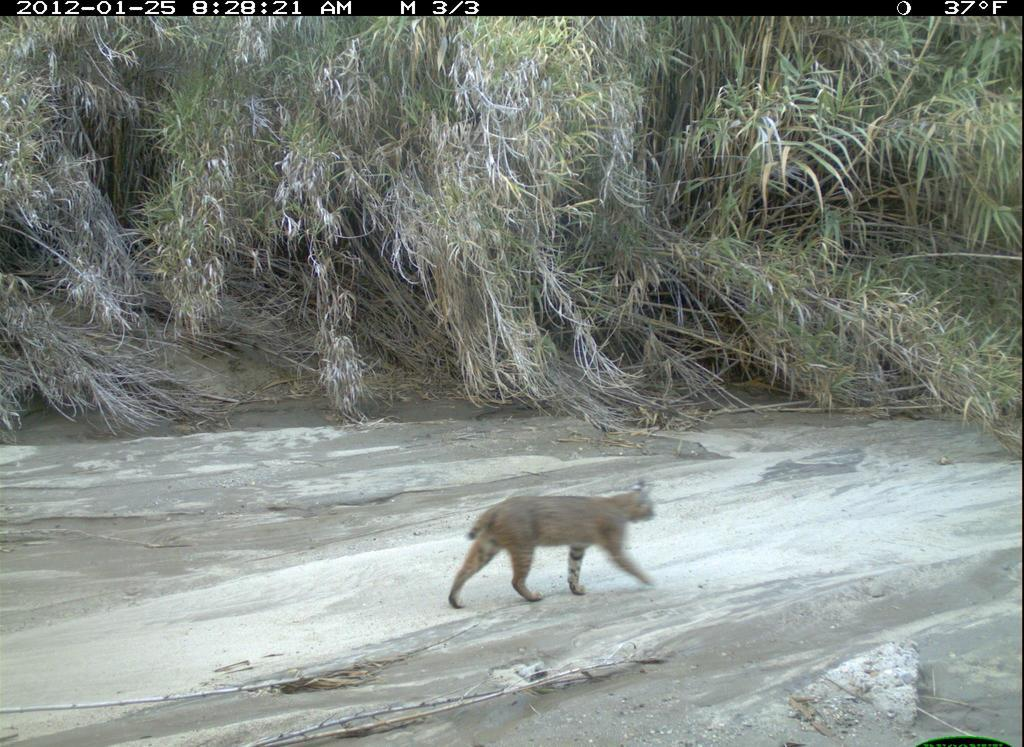bobcat: (432, 478, 665, 620)
